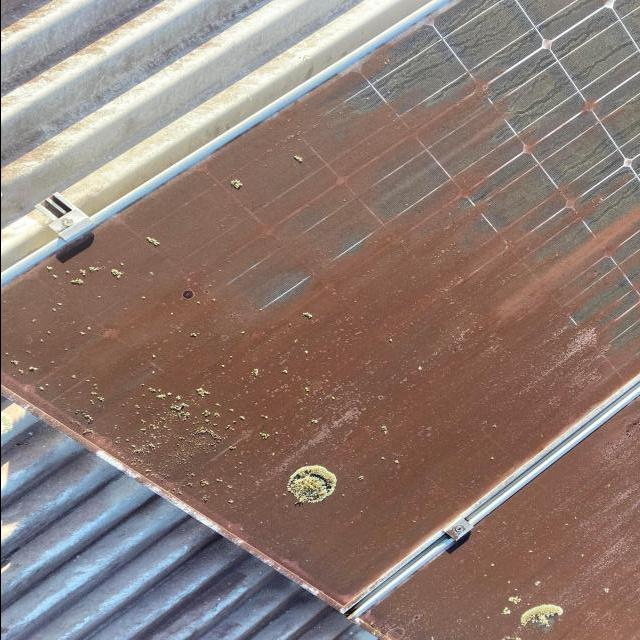soiled: (1, 7, 640, 633)
